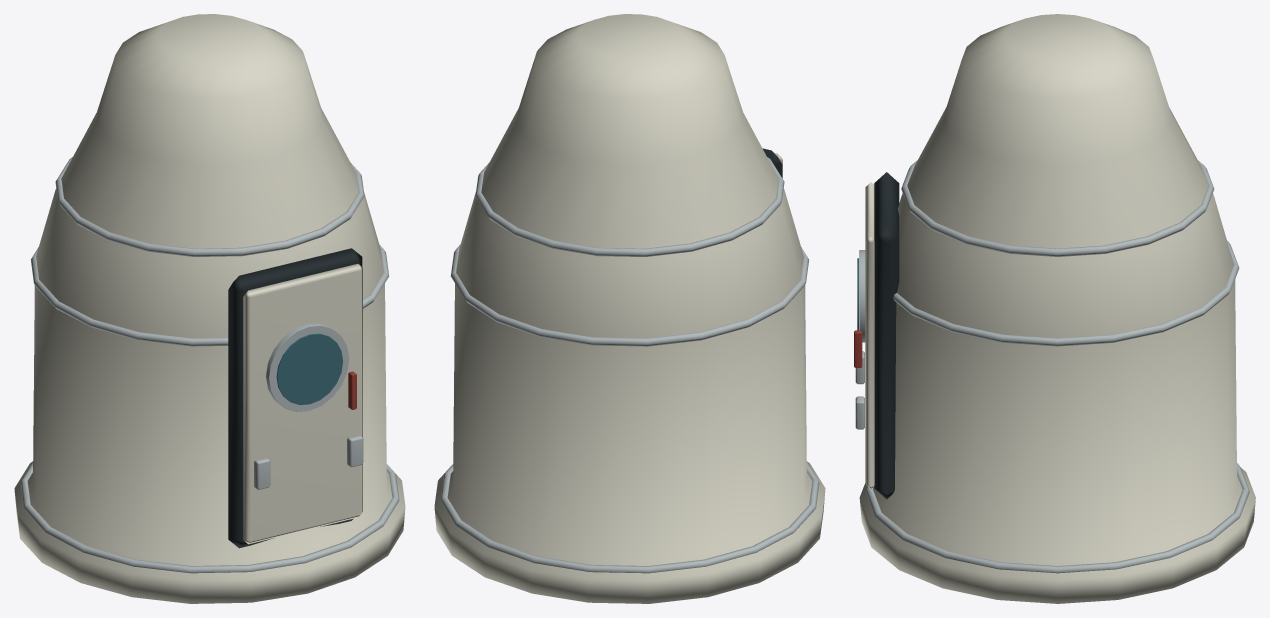
Rendered from S093_space_capsule_rebuilt.glb.
3 views of the same model, side by side, from view 1: azimuth 30°, elevation 25°; view 2: azimuth 150°, elevation 25°; view 3: azimuth 270°, elevation 25° (orthographic).
Parts seen in each view (by area): view 1: Capsule_aged_white_shell, steel, dark, glass; view 2: Capsule_aged_white_shell, steel; view 3: Capsule_aged_white_shell, steel, dark.
Part boxes in pixels (left/top/right/bottom): Capsule_aged_white_shell: left=14, top=14, right=405, bottom=603; steel: left=20, top=157, right=399, bottom=573; dark: left=228, top=248, right=362, bottom=548; glass: left=276, top=333, right=342, bottom=404; Capsule_aged_white_shell: left=434, top=14, right=825, bottom=603; steel: left=440, top=157, right=819, bottom=573; Capsule_aged_white_shell: left=859, top=14, right=1255, bottom=603; steel: left=855, top=160, right=1249, bottom=573; dark: left=874, top=172, right=899, bottom=499.
Bounding box in the file's own units: 1.9 × 2.6 × 1.95.
